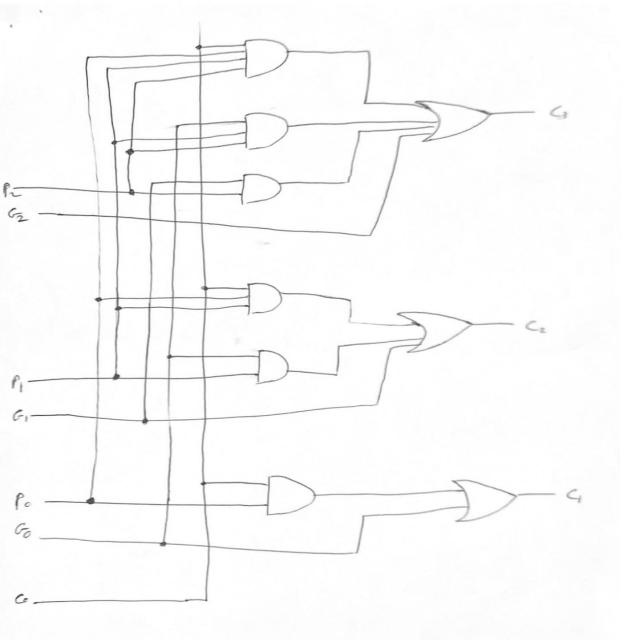AND: (252, 471, 327, 522), (236, 30, 298, 81), (235, 108, 294, 157), (235, 272, 293, 318), (233, 170, 290, 212), (247, 343, 295, 390)
OR: (408, 84, 508, 148), (445, 466, 526, 532), (397, 299, 478, 359)
